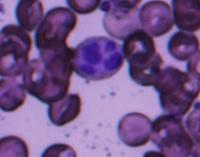N: (74, 34, 123, 80)
